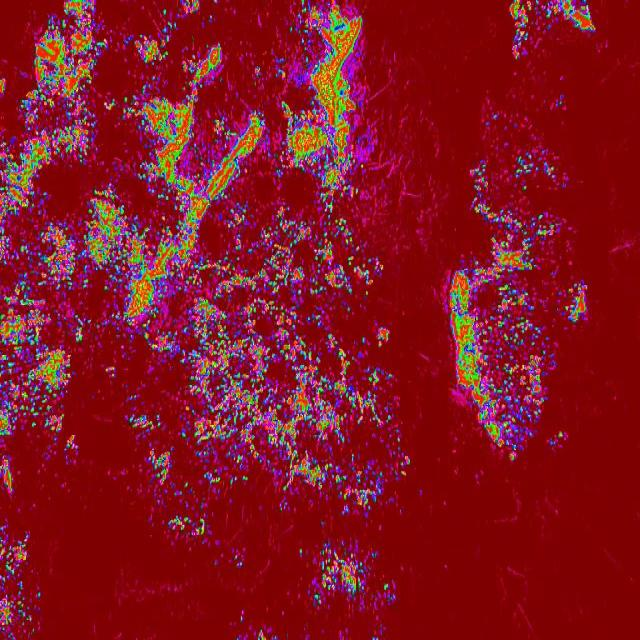fire: (0, 0, 403, 351), (124, 350, 406, 508), (448, 246, 560, 458), (470, 156, 561, 247), (0, 350, 77, 450), (300, 542, 396, 610), (0, 526, 44, 640), (508, 0, 593, 40), (165, 512, 208, 542), (566, 283, 588, 323), (0, 449, 14, 498), (512, 40, 526, 64)
